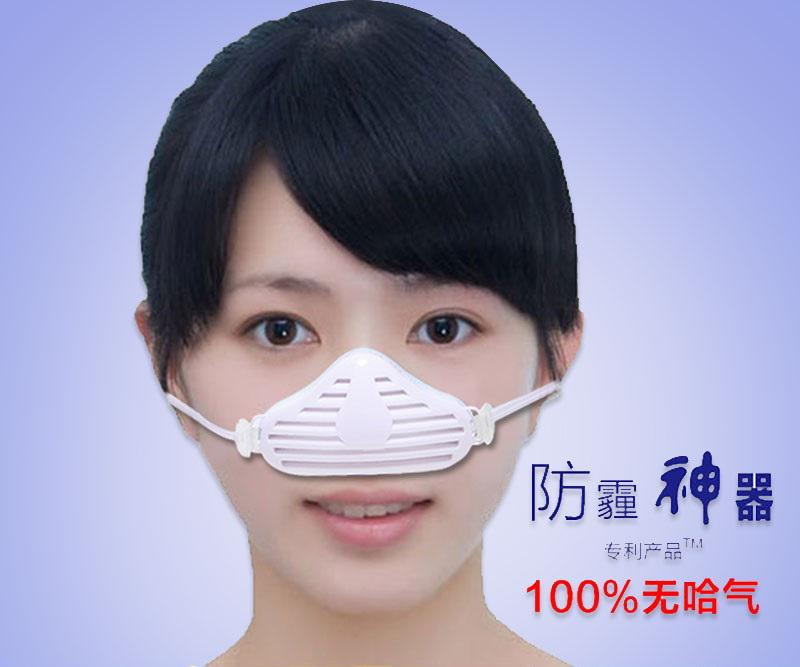WRONG: (174, 251, 537, 614)
